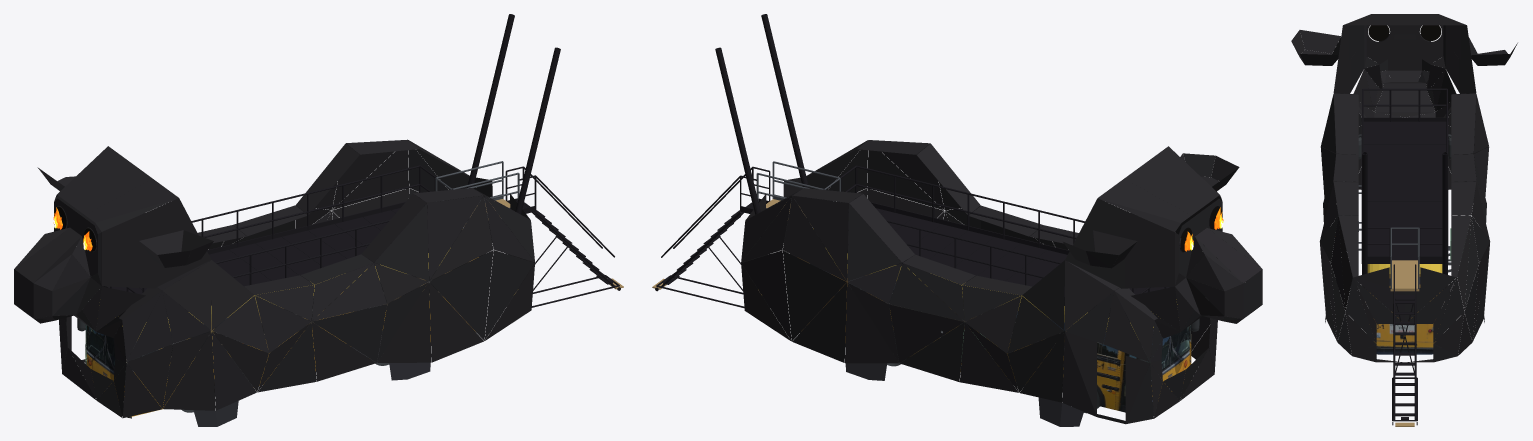
File: baaabs-earl-symmetric.glb
The picture shows the model from 3 angles, left to right: view 1: azimuth 30°, elevation 25°; view 2: azimuth 150°, elevation 25°; view 3: azimuth 270°, elevation 25°; orthographic projection. The views are drawn at different scales.
Parts seen in each view (by area): view 1: B-D-036 | Driver Flank 06 b, B-D-043 | Driver Skirt 02 a, B-D-037 | Driver Flank 07 a, B-D-047 | Driver Skirt 04 a, B-D-028 | Driver Flank 02 b, H-D-001 | Driver continuous side, B-D-045 | Driver Skirt 03 a, B-D-033 | Driver Flank 05 a, B-P-045 | Passenger Flank 07 a, H-D-014 | Driver head side upper, H-C-002 | Center continuous rising crown, B-D-030 | Driver Flank 03 b (+67 smaller); view 2: B-P-044 | Passenger Flank 06 b, B-P-045 | Passenger Flank 07 a, B-P-055 | Passenger Skirt 04 a, H-P-001 | Passenger continuous side, B-P-036 | Passenger Flank 02 b, B-P-041 | Passenger Flank 05 a, B-D-037 | Driver Flank 07 a, H-C-002 | Center continuous rising crown, H-P-014 | Passenger head side upper, B-P-053 | Passenger Skirt 03 a, B-P-038 | Passenger Flank 03 b, B-P-037 | Passenger Flank 03 a (+68 smaller); view 3: B-D-013 | Driver Crown 03 a, B-P-021 | Passenger Crown 03 a, Bus__Rear fascia, Dancefloor_section_01, H-C-001 | Center S lower front, B-D-059 | Driver Rear surround 06 a, B-P-015 | Passenger Rear surround 05 a, Dancefloor_section_02, Dancefloor_section_12, Dancefloor_section_05, Dancefloor_section_09, Dancefloor_section_04 (+79 smaller).
Boxes of the visible parts, left/top/right/bottom form: B-D-036 | Driver Flank 06 b: left=374, top=203, right=428, bottom=281; B-D-043 | Driver Skirt 02 a: left=163, top=332, right=215, bottom=410; B-D-037 | Driver Flank 07 a: left=430, top=196, right=493, bottom=280; B-D-047 | Driver Skirt 04 a: left=258, top=322, right=316, bottom=392; B-D-028 | Driver Flank 02 b: left=162, top=260, right=211, bottom=330; H-D-001 | Driver continuous side: left=101, top=250, right=150, bottom=288; B-D-045 | Driver Skirt 03 a: left=212, top=332, right=256, bottom=410; B-D-033 | Driver Flank 05 a: left=312, top=263, right=386, bottom=321; B-P-045 | Passenger Flank 07 a: left=333, top=150, right=408, bottom=209; H-D-014 | Driver head side upper: left=101, top=208, right=156, bottom=254; H-C-002 | Center continuous rising crown: left=67, top=165, right=152, bottom=215; B-D-030 | Driver Flank 03 b: left=211, top=260, right=253, bottom=330; B-P-044 | Passenger Flank 06 b: left=847, top=203, right=901, bottom=281; B-P-045 | Passenger Flank 07 a: left=783, top=196, right=846, bottom=281; B-P-055 | Passenger Skirt 04 a: left=959, top=323, right=1018, bottom=392; H-P-001 | Passenger continuous side: left=1125, top=250, right=1174, bottom=288; B-P-036 | Passenger Flank 02 b: left=1065, top=260, right=1113, bottom=330; B-P-041 | Passenger Flank 05 a: left=889, top=263, right=963, bottom=321; B-D-037 | Driver Flank 07 a: left=867, top=150, right=943, bottom=210; H-C-002 | Center continuous rising crown: left=1124, top=165, right=1209, bottom=215; H-P-014 | Passenger head side upper: left=1120, top=208, right=1174, bottom=254; B-P-053 | Passenger Skirt 03 a: left=1020, top=332, right=1064, bottom=402; B-P-038 | Passenger Flank 03 b: left=1022, top=260, right=1064, bottom=330; B-P-037 | Passenger Flank 03 a: left=1007, top=296, right=1063, bottom=353; B-D-013 | Driver Crown 03 a: left=1333, top=93, right=1358, bottom=154; B-P-021 | Passenger Crown 03 a: left=1451, top=93, right=1476, bottom=154; Bus__Rear fascia: left=1370, top=274, right=1439, bottom=347; Dancefloor_section_01: left=1361, top=121, right=1448, bottom=133; H-C-001 | Center S lower front: left=1374, top=91, right=1435, bottom=112; B-D-059 | Driver Rear surround 06 a: left=1353, top=267, right=1404, bottom=321; B-P-015 | Passenger Rear surround 05 a: left=1405, top=267, right=1456, bottom=321; Dancefloor_section_02: left=1361, top=133, right=1448, bottom=144; Dancefloor_section_12: left=1361, top=248, right=1448, bottom=263; Dancefloor_section_05: left=1361, top=167, right=1448, bottom=178; Dancefloor_section_09: left=1361, top=212, right=1448, bottom=223; Dancefloor_section_04: left=1361, top=156, right=1448, bottom=167.
Bounding box in the file's own units: 18.68 × 8.36 × 7.07.
223 materials, 1 textured.
